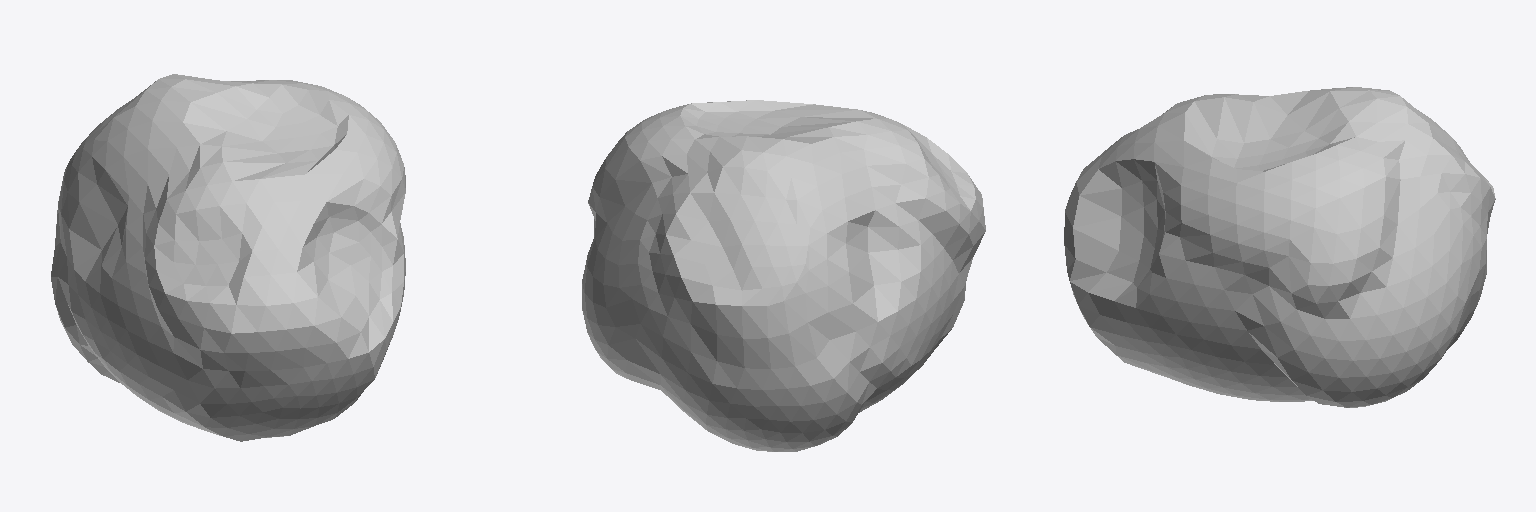
Rendered from asteroide2.obj.
The picture shows the model from 3 angles: view 1: azimuth 30°, elevation 25°; view 2: azimuth 150°, elevation 25°; view 3: azimuth 270°, elevation 25°; orthographic projection.
Visible parts, largest first — view 1: Icosphere; view 2: Icosphere; view 3: Icosphere.
Boxes of the visible parts, box(x1,y1,x2,y2) form: Icosphere: box(51, 74, 405, 441); Icosphere: box(582, 100, 985, 451); Icosphere: box(1064, 87, 1495, 407).
Size of the model in its own units: 2.27 by 2.08 by 2.77.